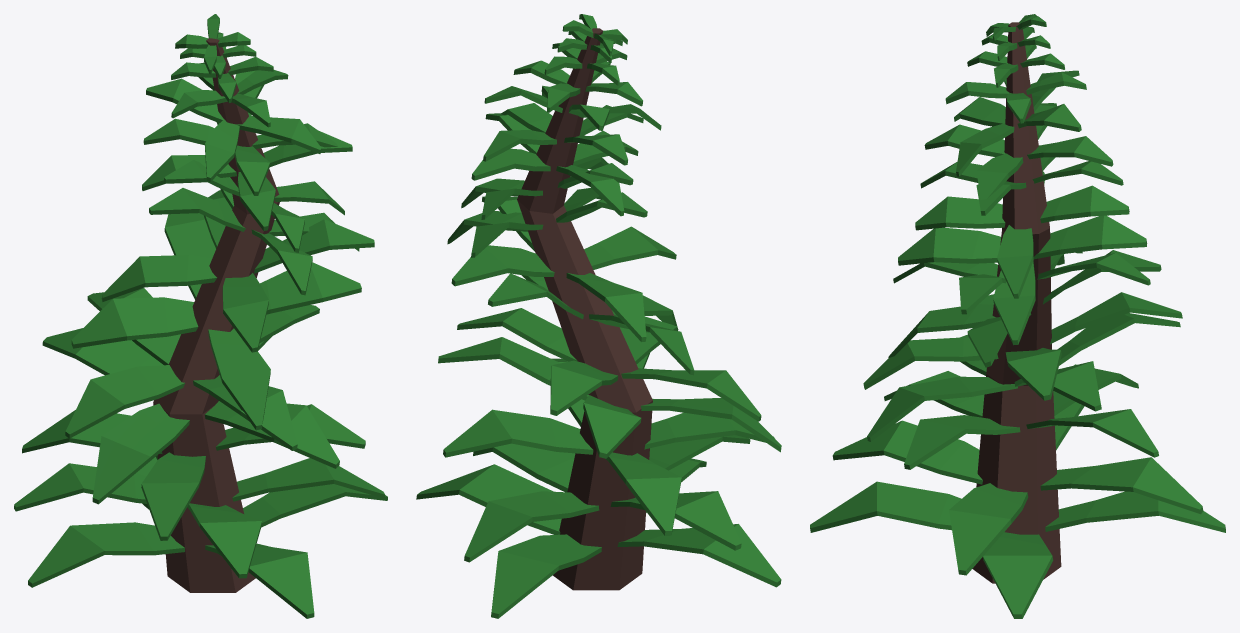
The model's file is Tree_8.fbx.
The picture shows the model from 3 angles, left to right: view 1: azimuth 30°, elevation 25°; view 2: azimuth 150°, elevation 25°; view 3: azimuth 270°, elevation 25°; orthographic projection.
Visible parts, largest first — view 1: Tree_8; view 2: Tree_8; view 3: Tree_8.
Boxes of the visible parts, left/top/right/bottom form: Tree_8: left=14, top=14, right=387, bottom=618; Tree_8: left=416, top=14, right=781, bottom=618; Tree_8: left=810, top=14, right=1225, bottom=618.
Bounding box in the file's own units: 911 × 1342 × 913.
